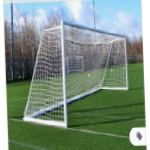goals: (19, 18, 131, 128)
